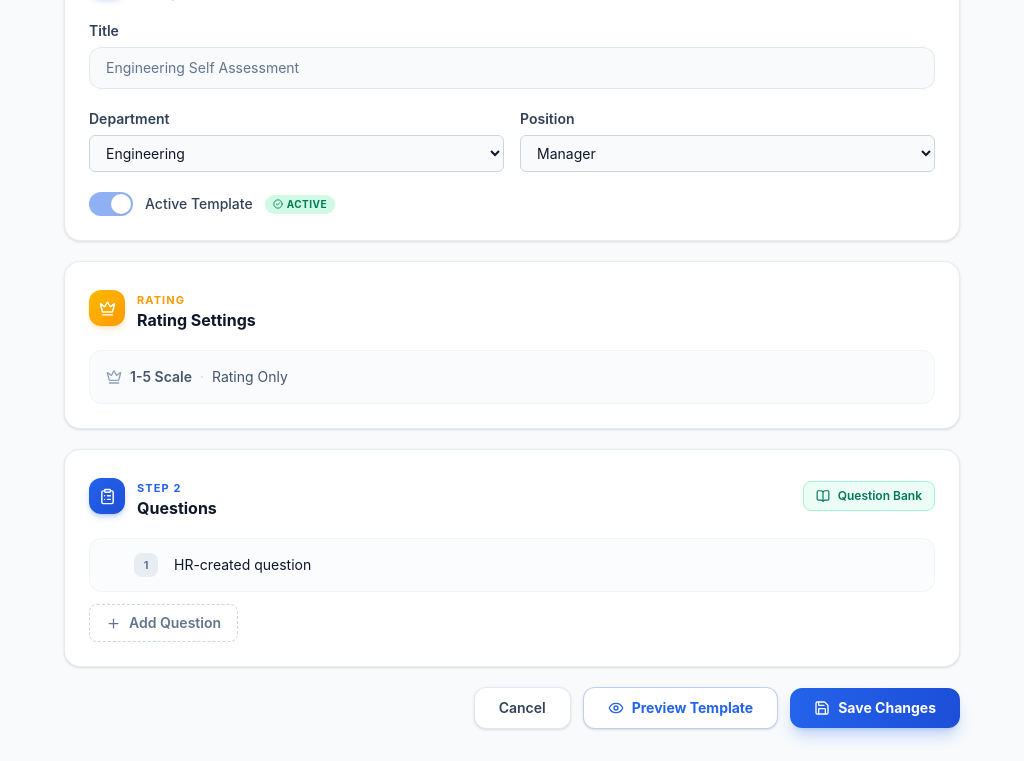
Test: EditSelfAssessmentTemplatePage manager question permissions › hides Yes/No in preview when template-level includeYesNo is disabled
(page scrolled)
Step 1. Click the button "Preview Template" → (680,708), box [583,687,778,729]
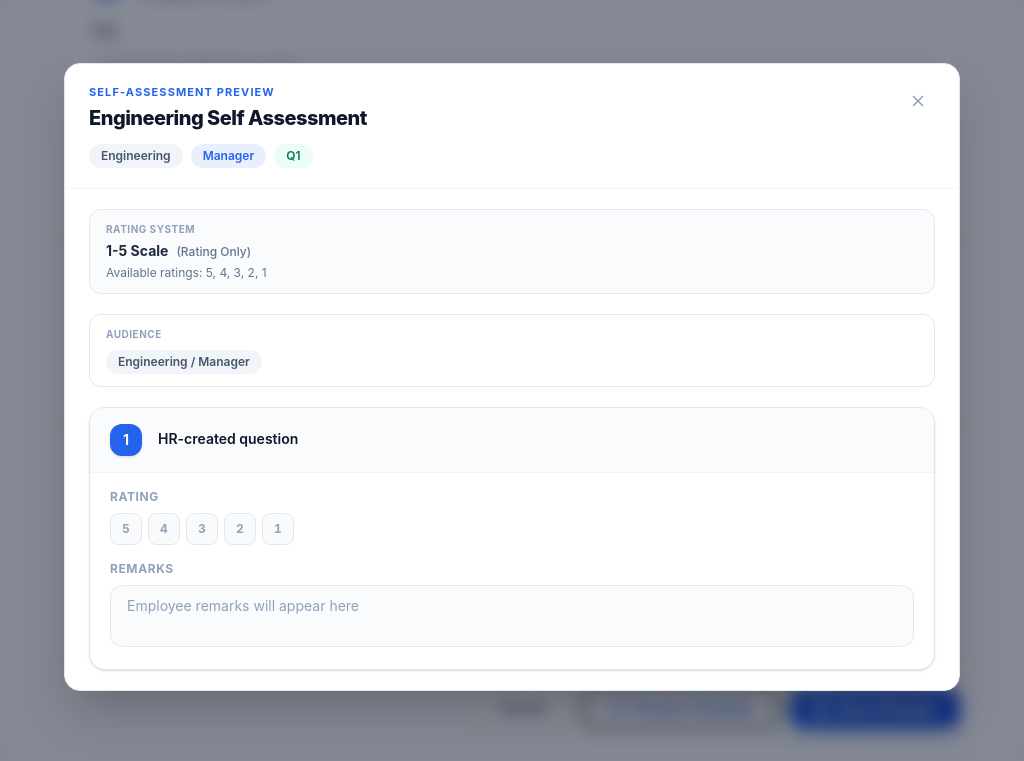
Expected: the text "(Rating Only)" is shown, [176,244,251,259]
